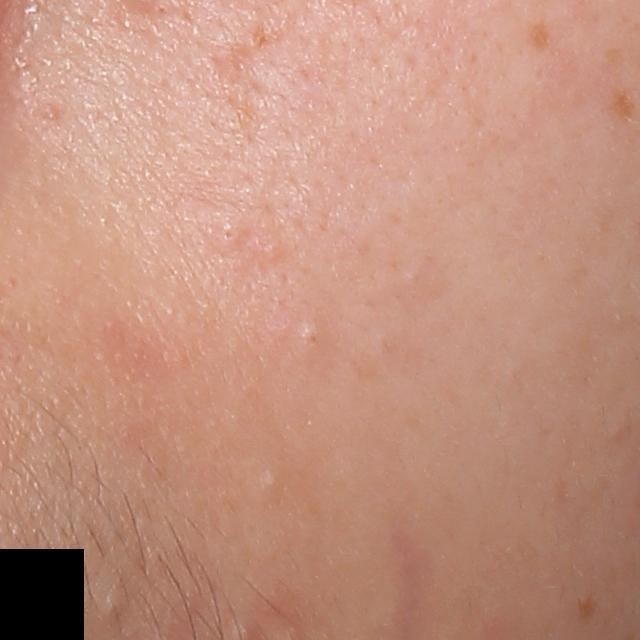comedo: (294, 320, 328, 354), (96, 588, 133, 619), (215, 218, 248, 250), (259, 470, 286, 495)
